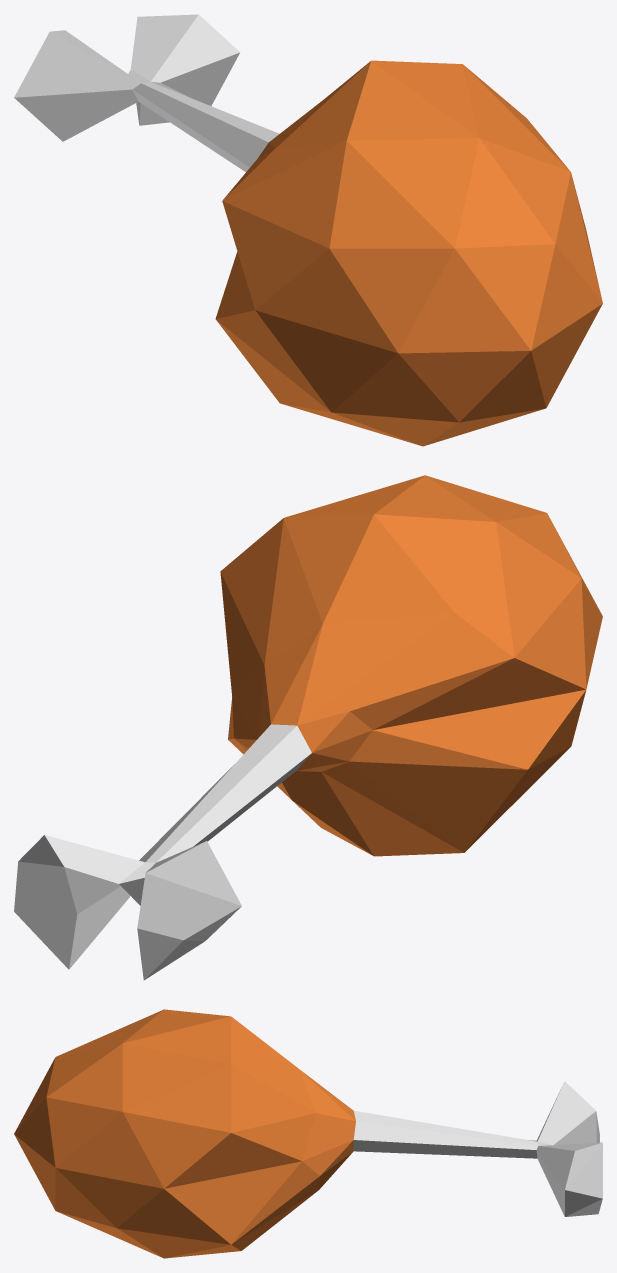
File: Kitchen_Ingredients_Chikenbone.fbx
3 renders of one model, top to bottom at view 1: azimuth 30°, elevation 25°; view 2: azimuth 150°, elevation 25°; view 3: azimuth 270°, elevation 25°, orthographic. The views are drawn at different scales.
Visible parts, largest first — view 1: Meat; view 2: Meat; view 3: Meat.
Part boxes in pixels (x1,y1,x2,y2): Meat: (14, 14, 602, 446); Meat: (14, 475, 602, 980); Meat: (14, 1009, 602, 1258).
Bounding box in the file's own units: 9.79 × 9.79 × 22.22.
